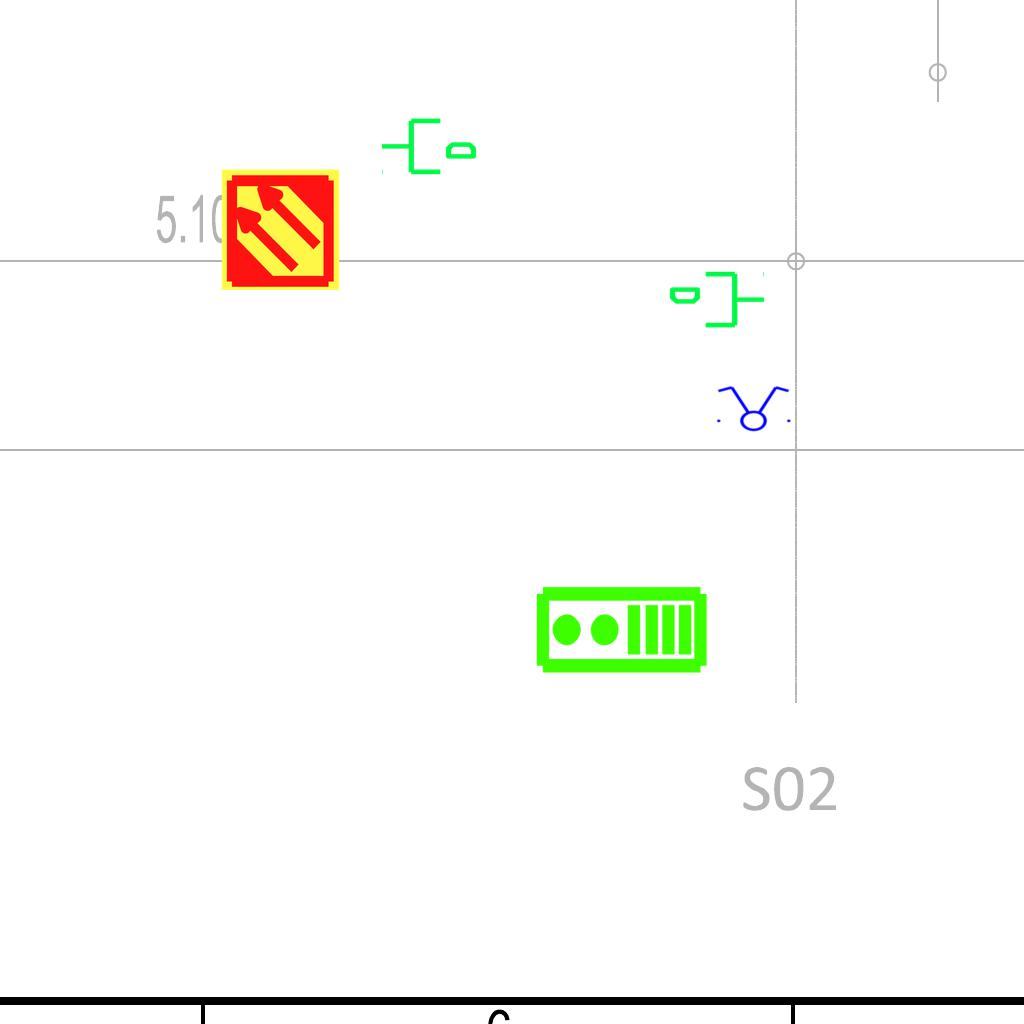ASR_Ansaugrauchmelder: (218, 167, 343, 292)
Datenanschluss_einfach: (667, 267, 767, 336), (379, 110, 479, 179)
Gegensprechanlage_mit_Video: (533, 584, 709, 679)
Serienschalter: (711, 384, 795, 432)
